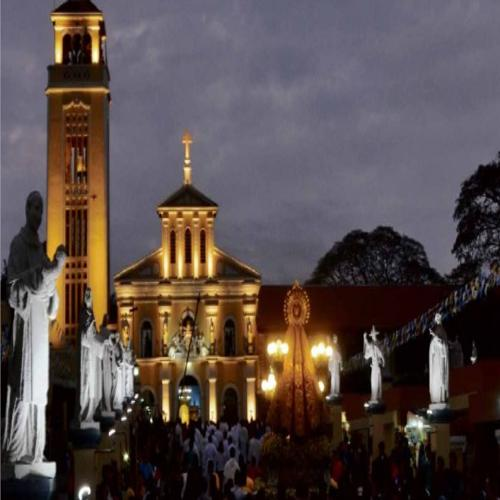Manaoag Church: (27, 3, 260, 433)
